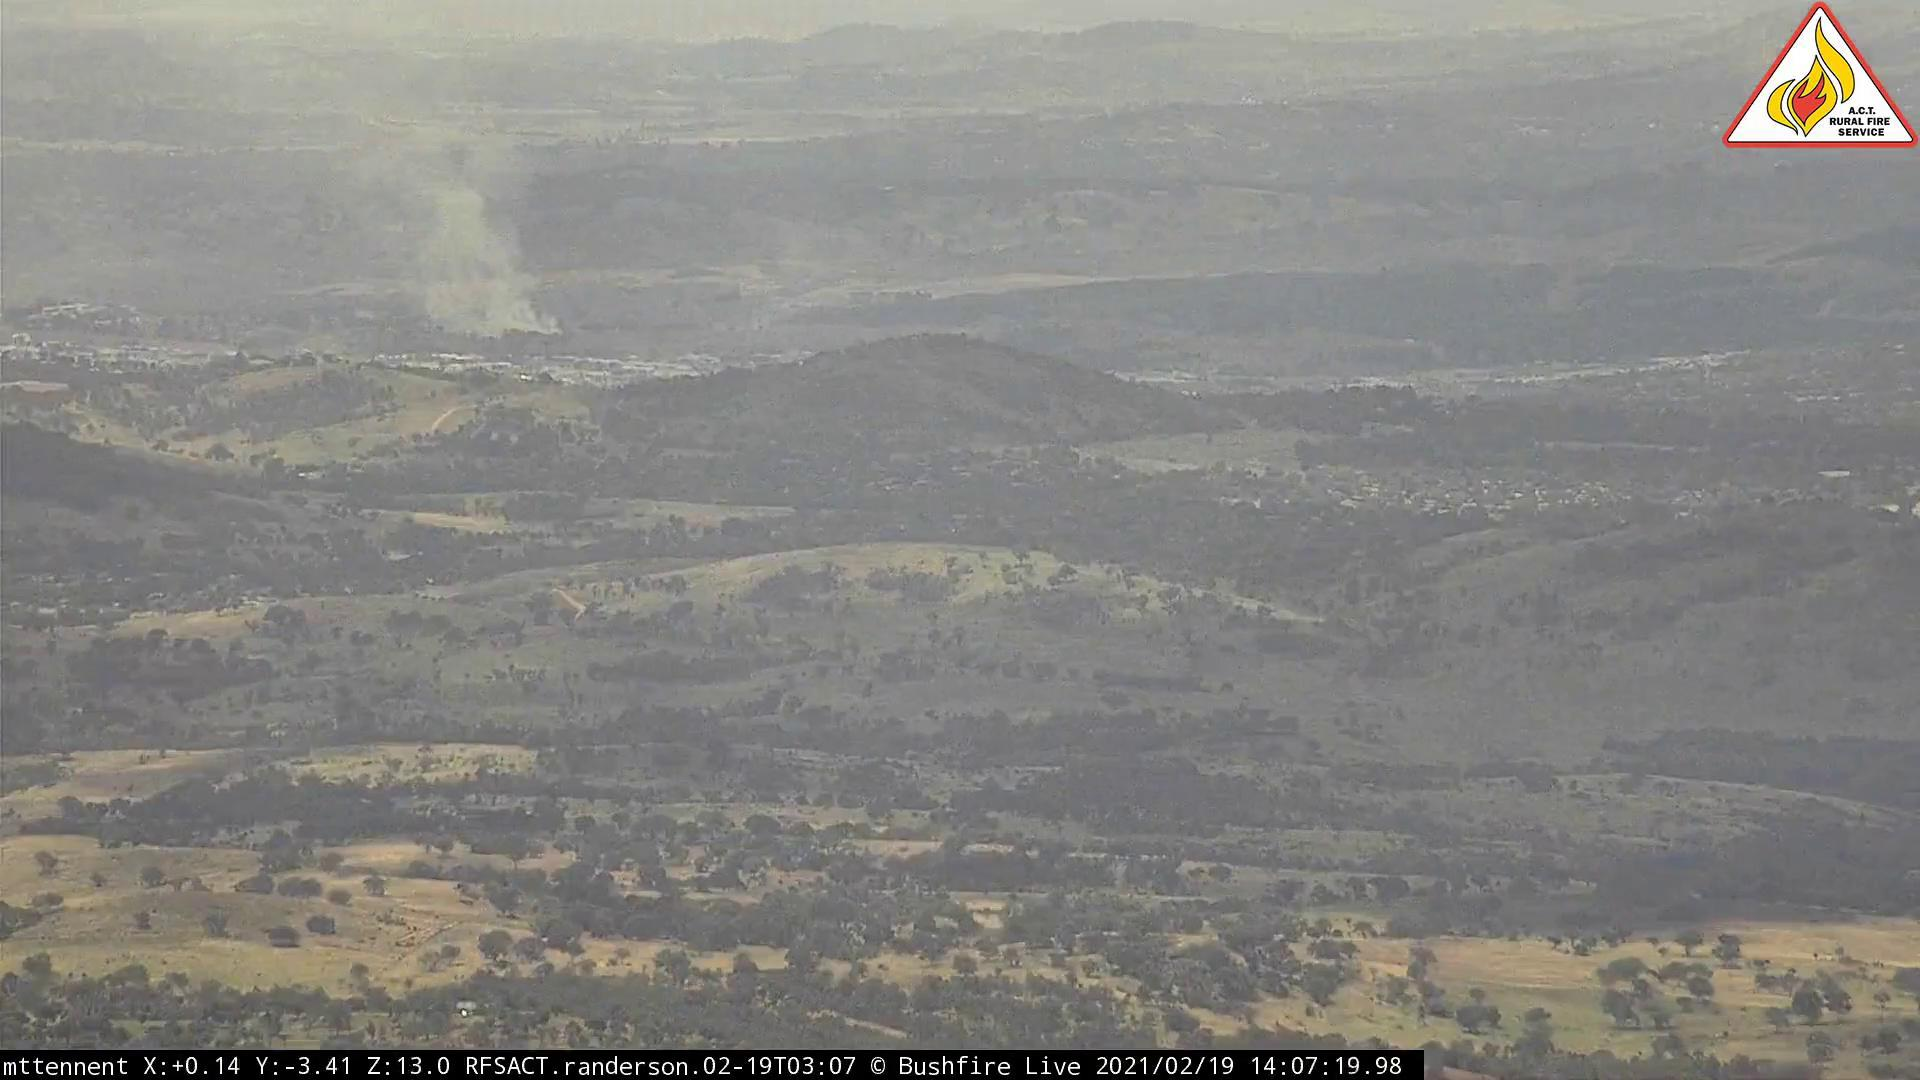Smoke: (154, 3, 574, 338)
